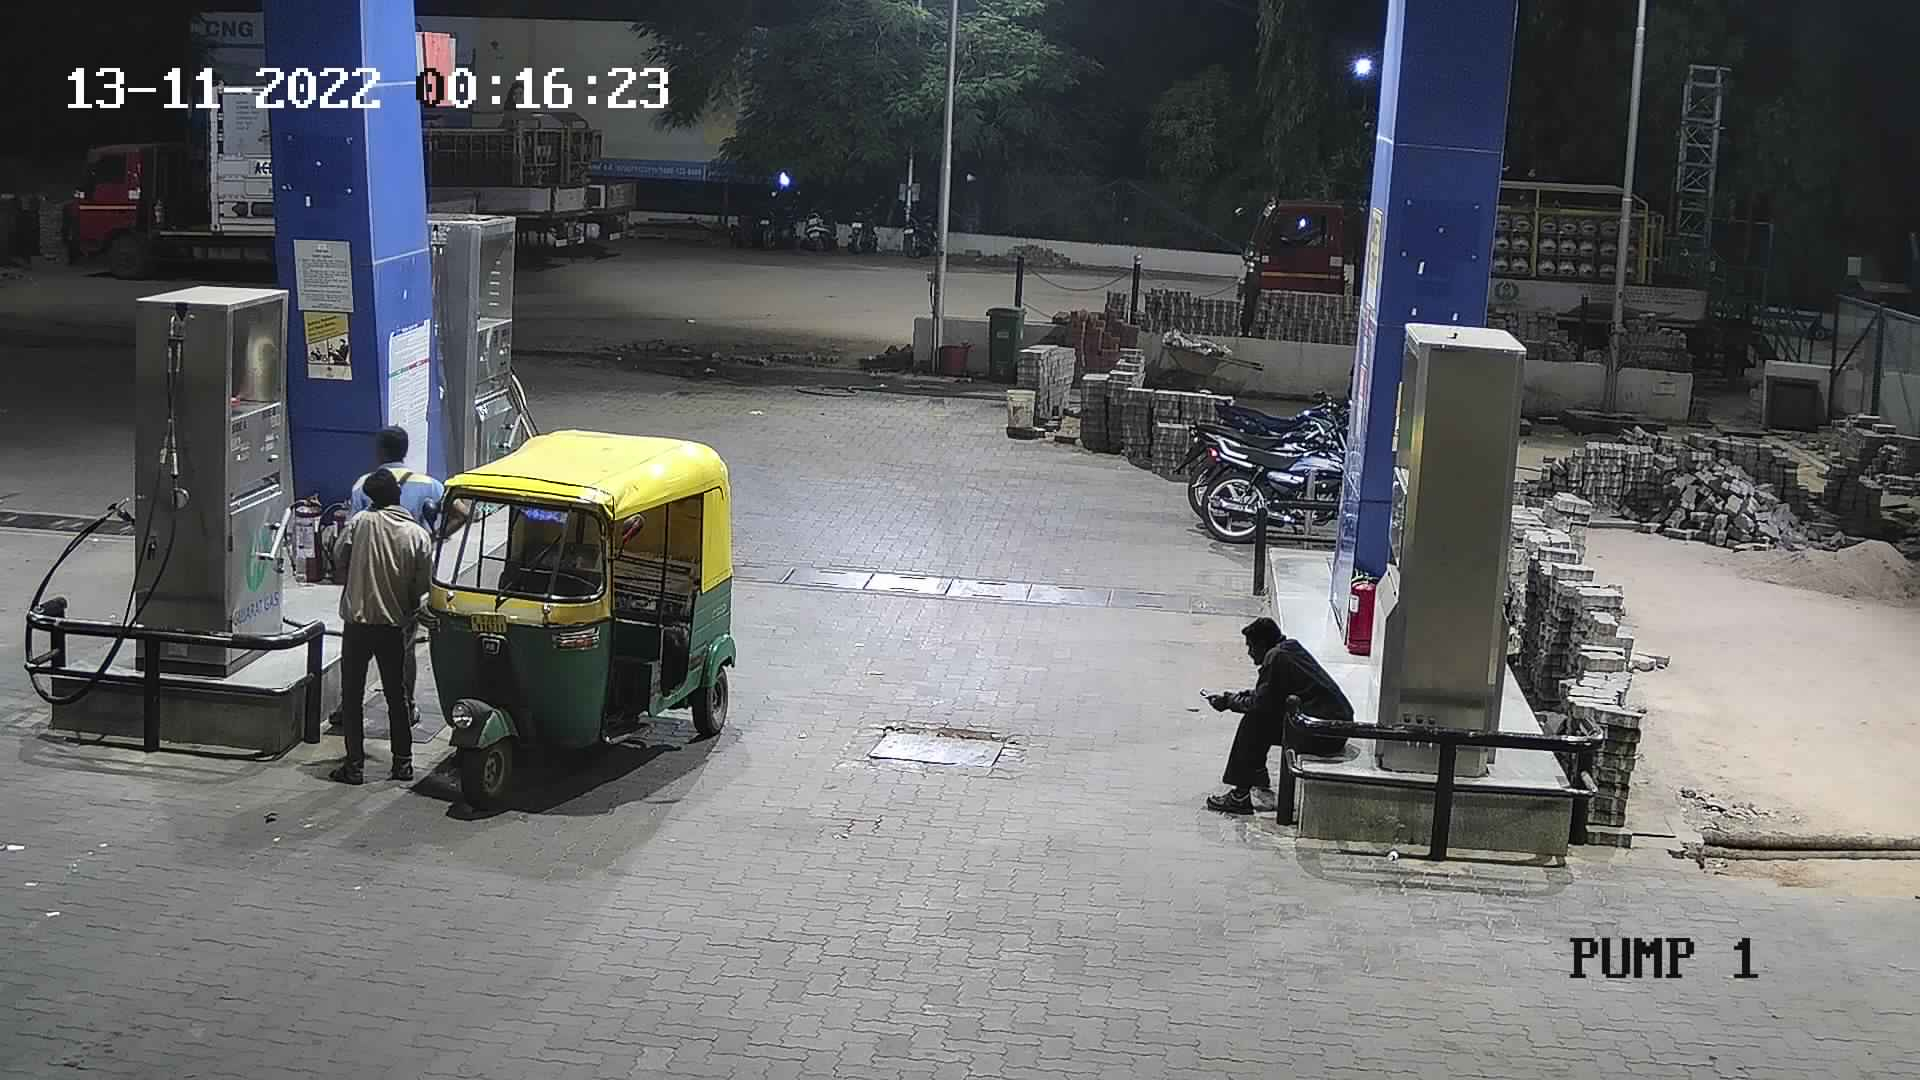Auto: (413, 415, 729, 800)
Bike: (1180, 392, 1353, 555), (887, 186, 942, 266), (744, 185, 802, 255), (843, 191, 886, 266), (795, 185, 840, 255)
HMV: (406, 66, 647, 272), (57, 73, 287, 285), (1218, 179, 1367, 351)
Others: (344, 419, 443, 723)
